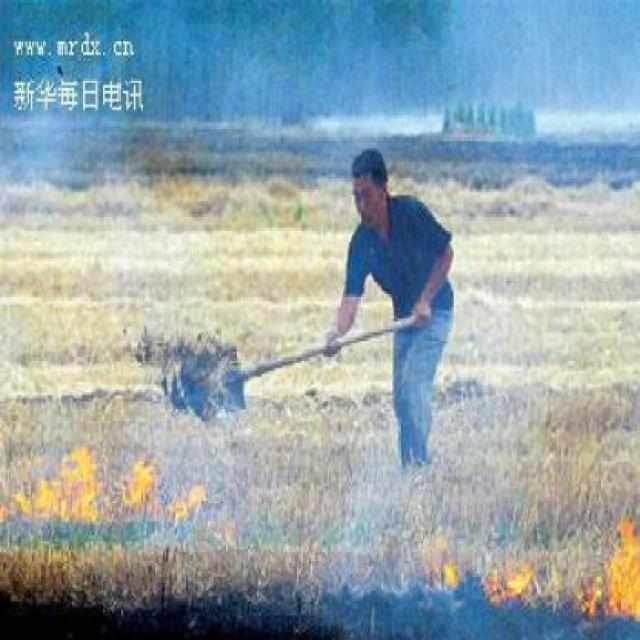Fire: (0, 437, 209, 545), (574, 506, 637, 612), (481, 536, 536, 610), (414, 526, 463, 599), (220, 516, 234, 541)
